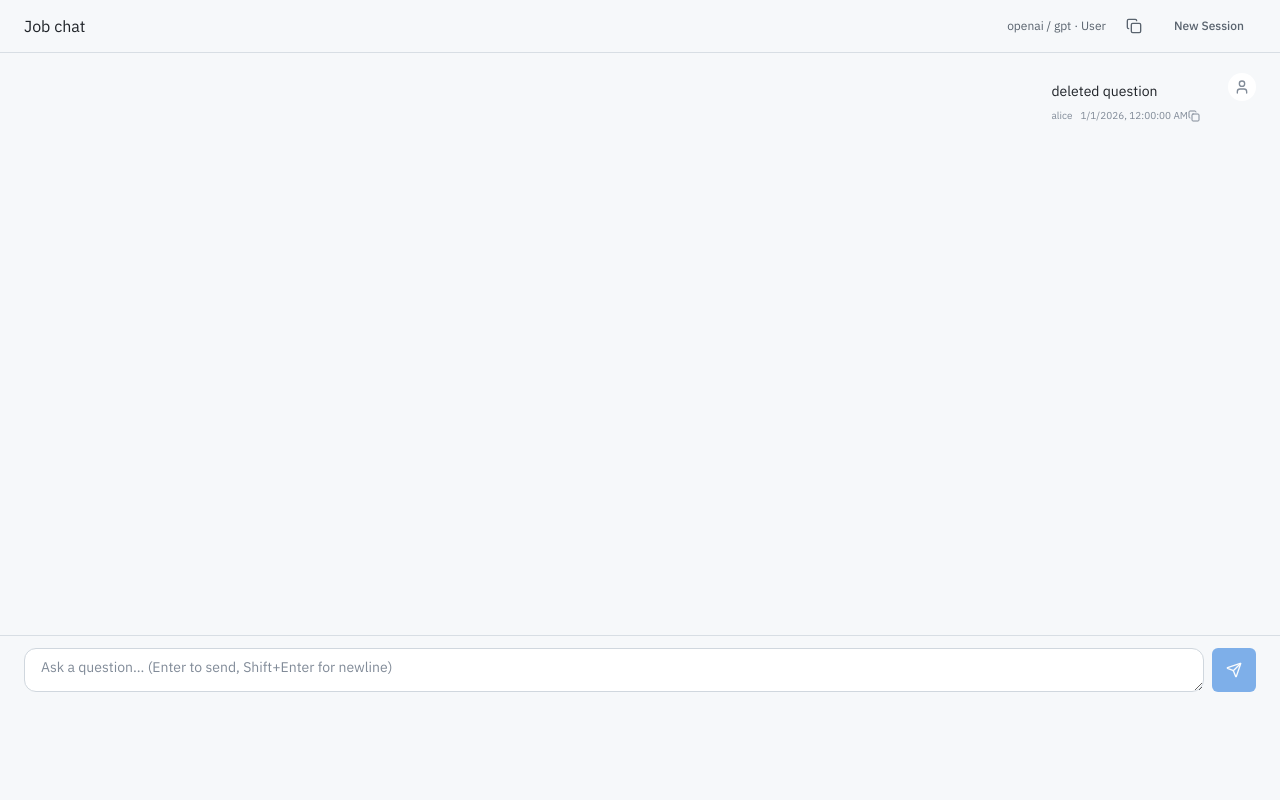
ignores a stale event history GET after New Session succeeds
Expected: the text "deleted question" is shown, [1052,82,1158,100]
Click the button "New Session": (1209, 26) [1162,12,1256,40]
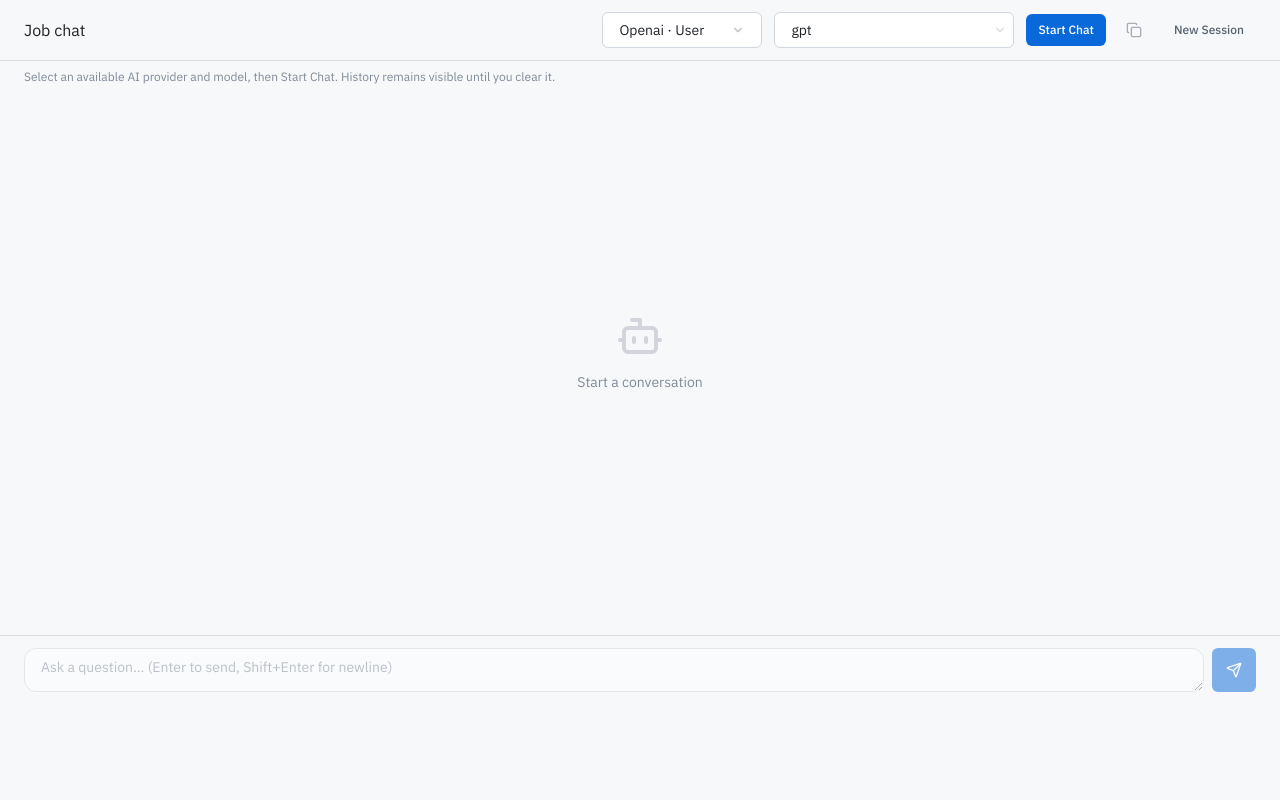
Expected: the text "deleted question" is gone
Expected: the button "Start Chat" is enabled, [1026,14,1106,46]
